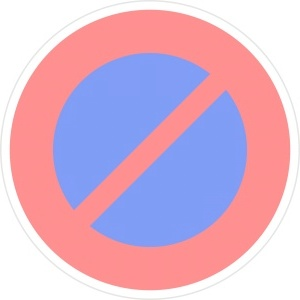Prohibition_sign: (1, 1, 298, 298)
